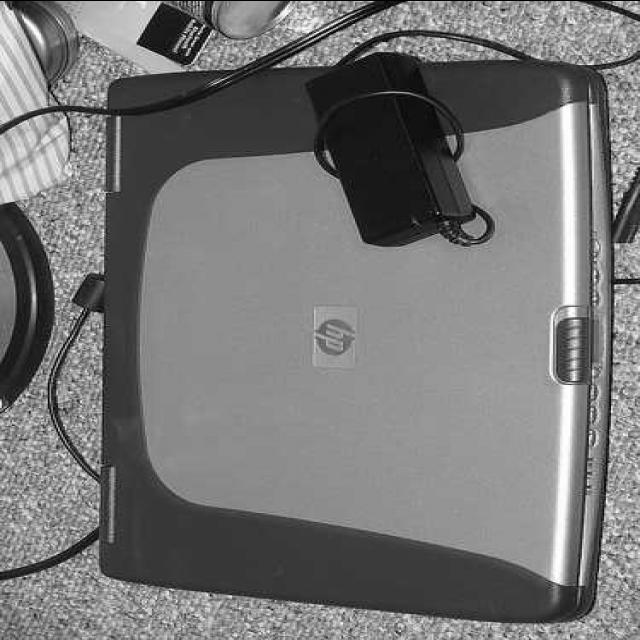laptop: (96, 59, 610, 606)
